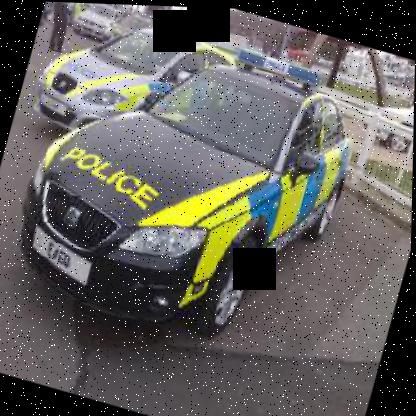emergency: (0, 0, 383, 379)
